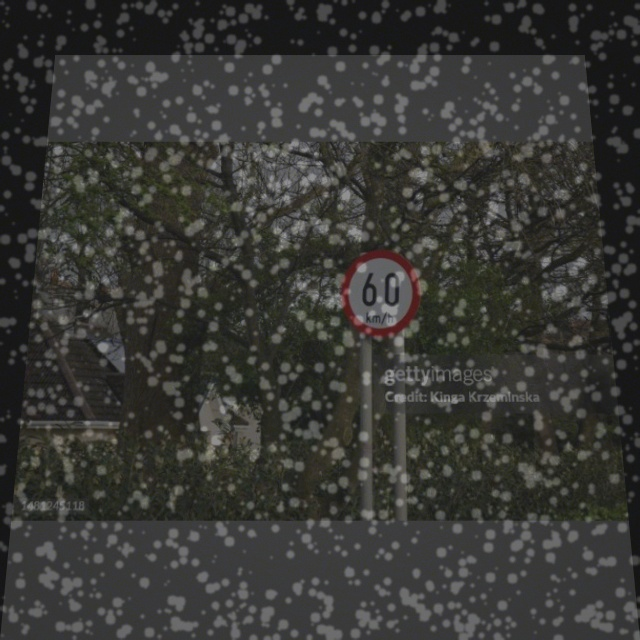Speed_Limit_60: (336, 249, 421, 341)
